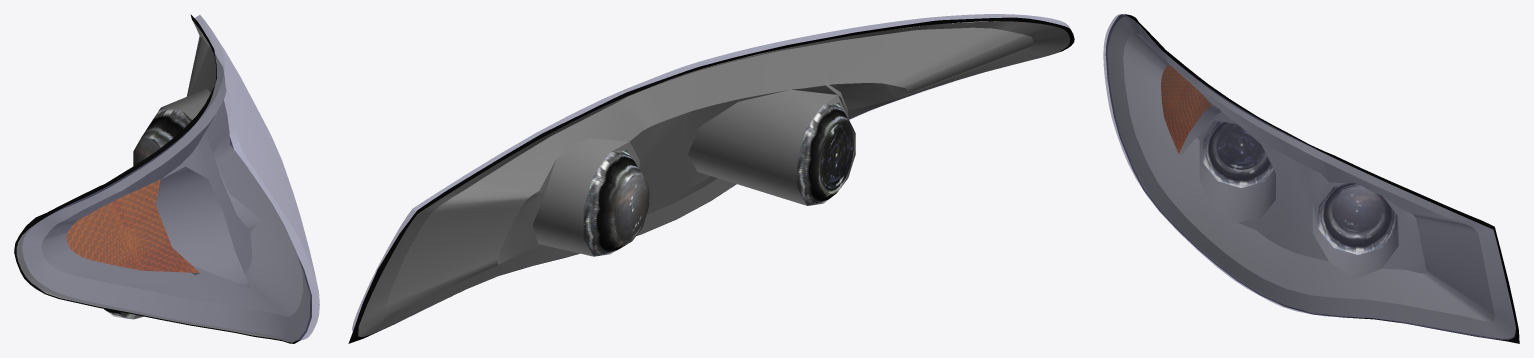
3 renders of one model, left to right at view 1: azimuth 30°, elevation 25°; view 2: azimuth 150°, elevation 25°; view 3: azimuth 270°, elevation 25°, orthographic. The views are drawn at different scales.
Parts seen in each view (by area): view 1: E233_061B_R_E233_061B_R_6_DTaSI, E233_061B_R_E233_061B_R_3_DaS, E233_061B_R_E233_061B_R_4_N, E233_061B_R_E233_061B_R_7_D, E233_061B_R_1_N_E233_061B_R; view 2: E233_061B_R_E233_061B_R_3_DaS, E233_061B_R_1_N_E233_061B_R, E233_061B_R_E233_061B_R_2_N, E233_061B_R_E233_061B_R_6_DTaSI, E233_061B_R_E233_061B_R_7_D; view 3: E233_061B_R_E233_061B_R_6_DTaSI, E233_061B_R_E233_061B_R_3_DaS, E233_061B_R_1_N_E233_061B_R, E233_061B_R_E233_061B_R_2_N, E233_061B_R_E233_061B_R_7_D, E233_061B_R_E233_061B_R_4_N.
Part boxes in pixels (x1=…): E233_061B_R_E233_061B_R_6_DTaSI: x1=17, y1=15, x2=319, y2=340; E233_061B_R_E233_061B_R_3_DaS: x1=16, y1=20, x2=310, y2=342; E233_061B_R_E233_061B_R_4_N: x1=66, y1=179, x2=199, y2=272; E233_061B_R_E233_061B_R_7_D: x1=14, y1=14, x2=311, y2=343; E233_061B_R_1_N_E233_061B_R: x1=133, y1=107, x2=189, y2=165; E233_061B_R_E233_061B_R_3_DaS: x1=358, y1=21, x2=1070, y2=337; E233_061B_R_1_N_E233_061B_R: x1=583, y1=150, x2=649, y2=256; E233_061B_R_E233_061B_R_2_N: x1=797, y1=103, x2=855, y2=205; E233_061B_R_E233_061B_R_6_DTaSI: x1=352, y1=14, x2=1070, y2=331; E233_061B_R_E233_061B_R_7_D: x1=348, y1=17, x2=1074, y2=343; E233_061B_R_E233_061B_R_6_DTaSI: x1=1103, y1=14, x2=1515, y2=339; E233_061B_R_E233_061B_R_3_DaS: x1=1108, y1=16, x2=1515, y2=338; E233_061B_R_1_N_E233_061B_R: x1=1318, y1=183, x2=1397, y2=254; E233_061B_R_E233_061B_R_2_N: x1=1203, y1=121, x2=1273, y2=187; E233_061B_R_E233_061B_R_7_D: x1=1106, y1=14, x2=1519, y2=343; E233_061B_R_E233_061B_R_4_N: x1=1161, y1=65, x2=1211, y2=153.
Size of the model in its own units: 49.1 by 24.78 by 53.33.
